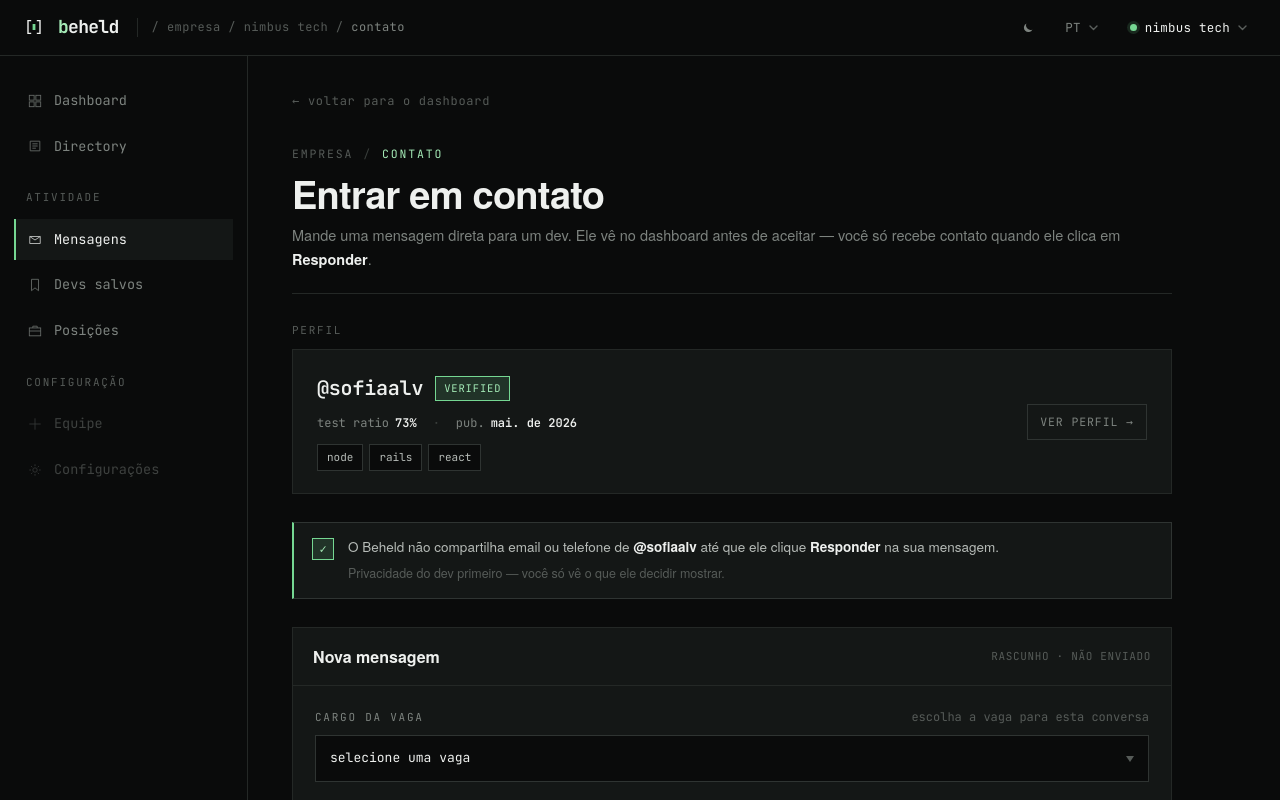
it: AccountContact (app-shell v2) › renders the open select on first message (state A) and gates submit on 30 chars
The width and height of the screenshot is (1280, 800).
Step 1. Select "DevOps / Infra" in the dropdown labelled "Cargo da vaga escolha a vaga para esta conversa" → (732, 759), box [315,735,1149,782]
(page scrolled)
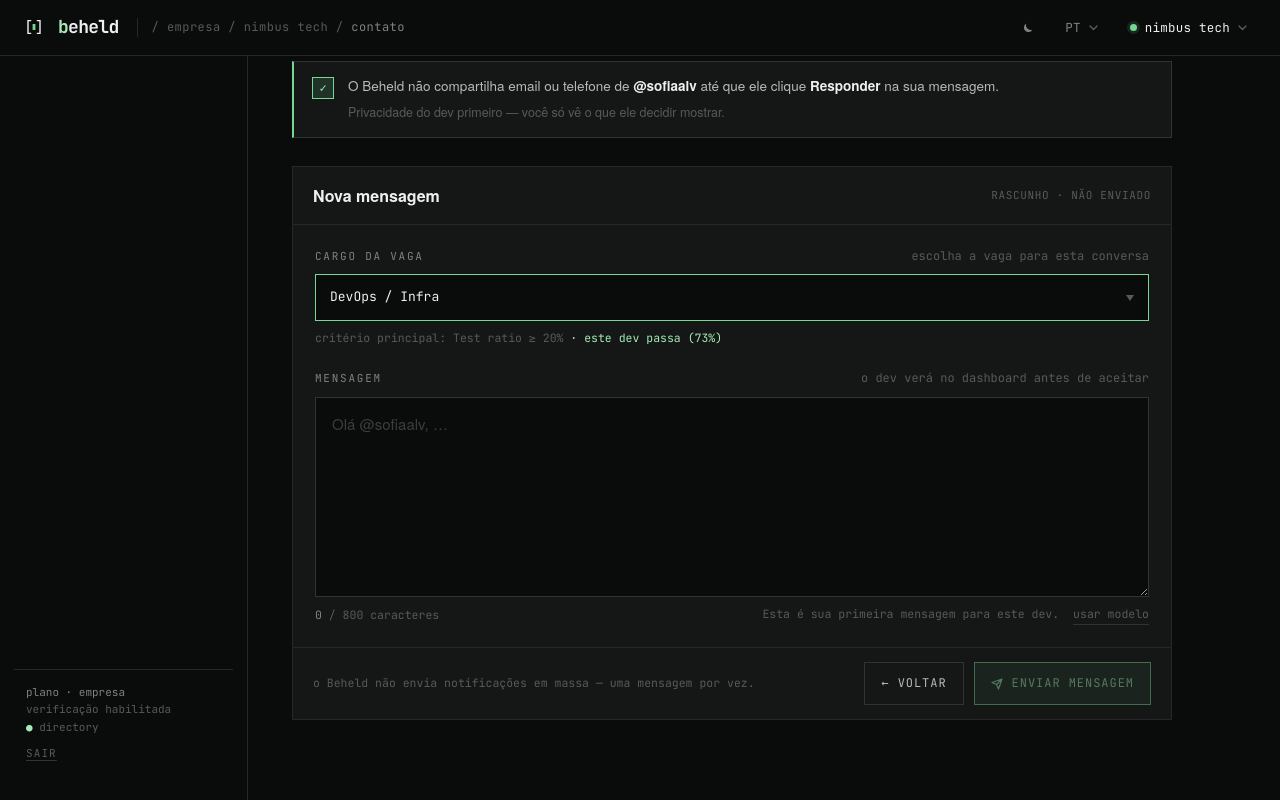
Now the text "· este dev passa (73%)" is shown, box [564,330,722,345]
Step 2. Type "curto" into the text box with id "msg" → (732, 497), box [315,397,1149,597]
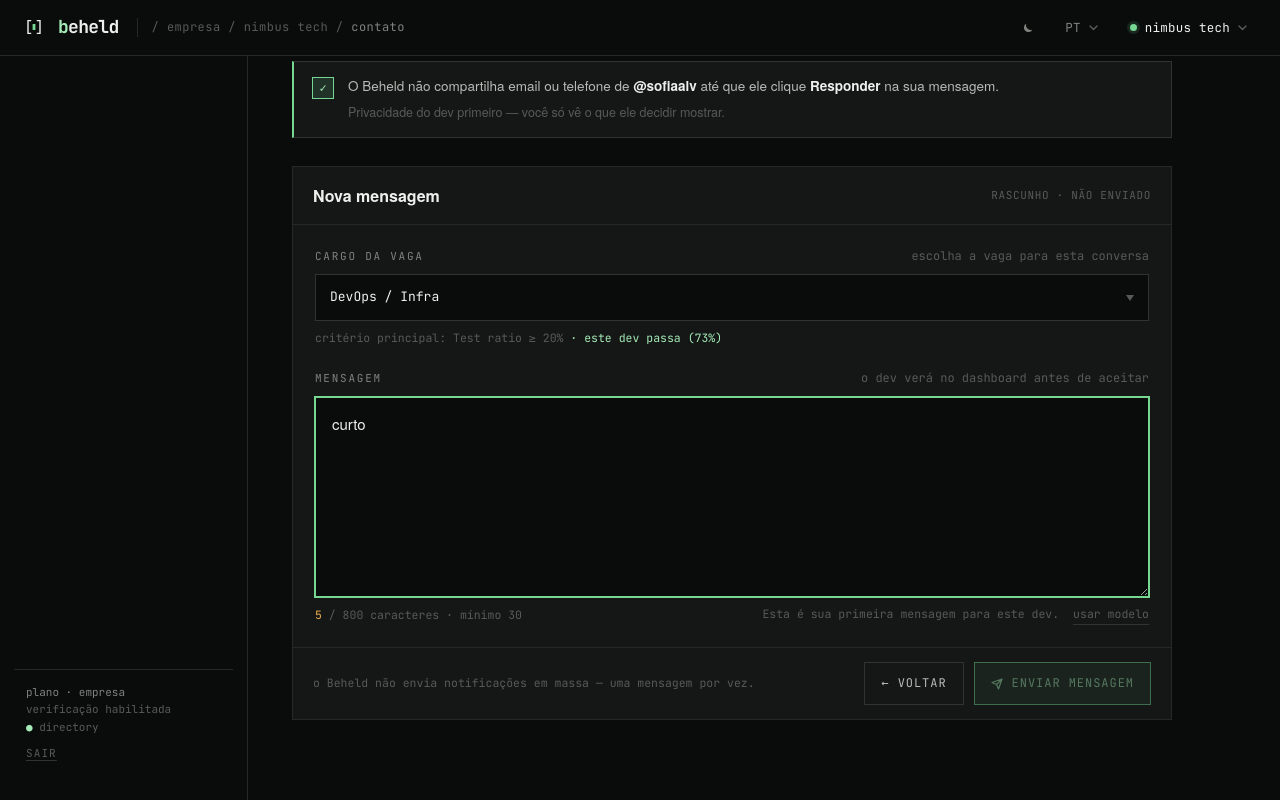
Expected: the button "Enviar mensagem" is disabled, [974,662,1151,705]
Step 3. Type " — agora uma mensagem com mais de trinta caracteres." into the text box with id "msg" → (732, 497), box [315,397,1149,597]
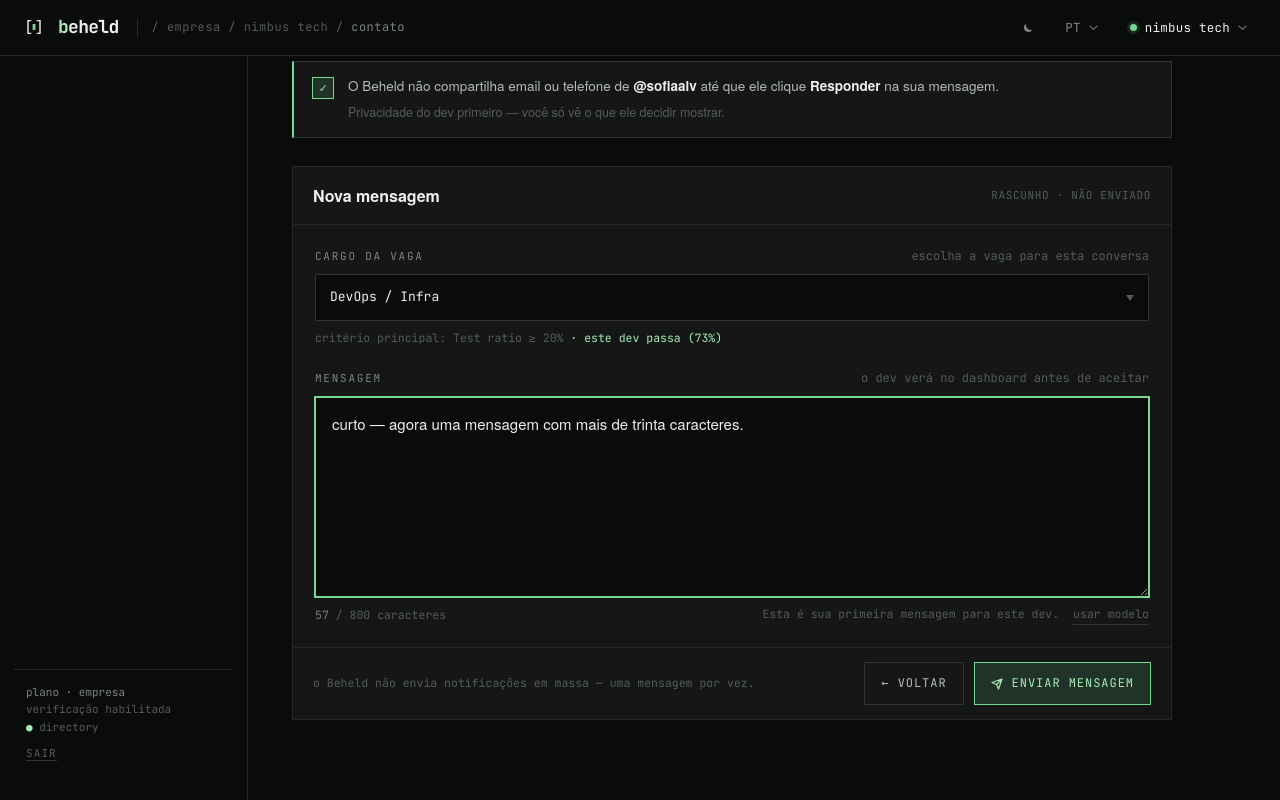
Now the button "Enviar mensagem" is enabled, box [974,662,1151,705]
